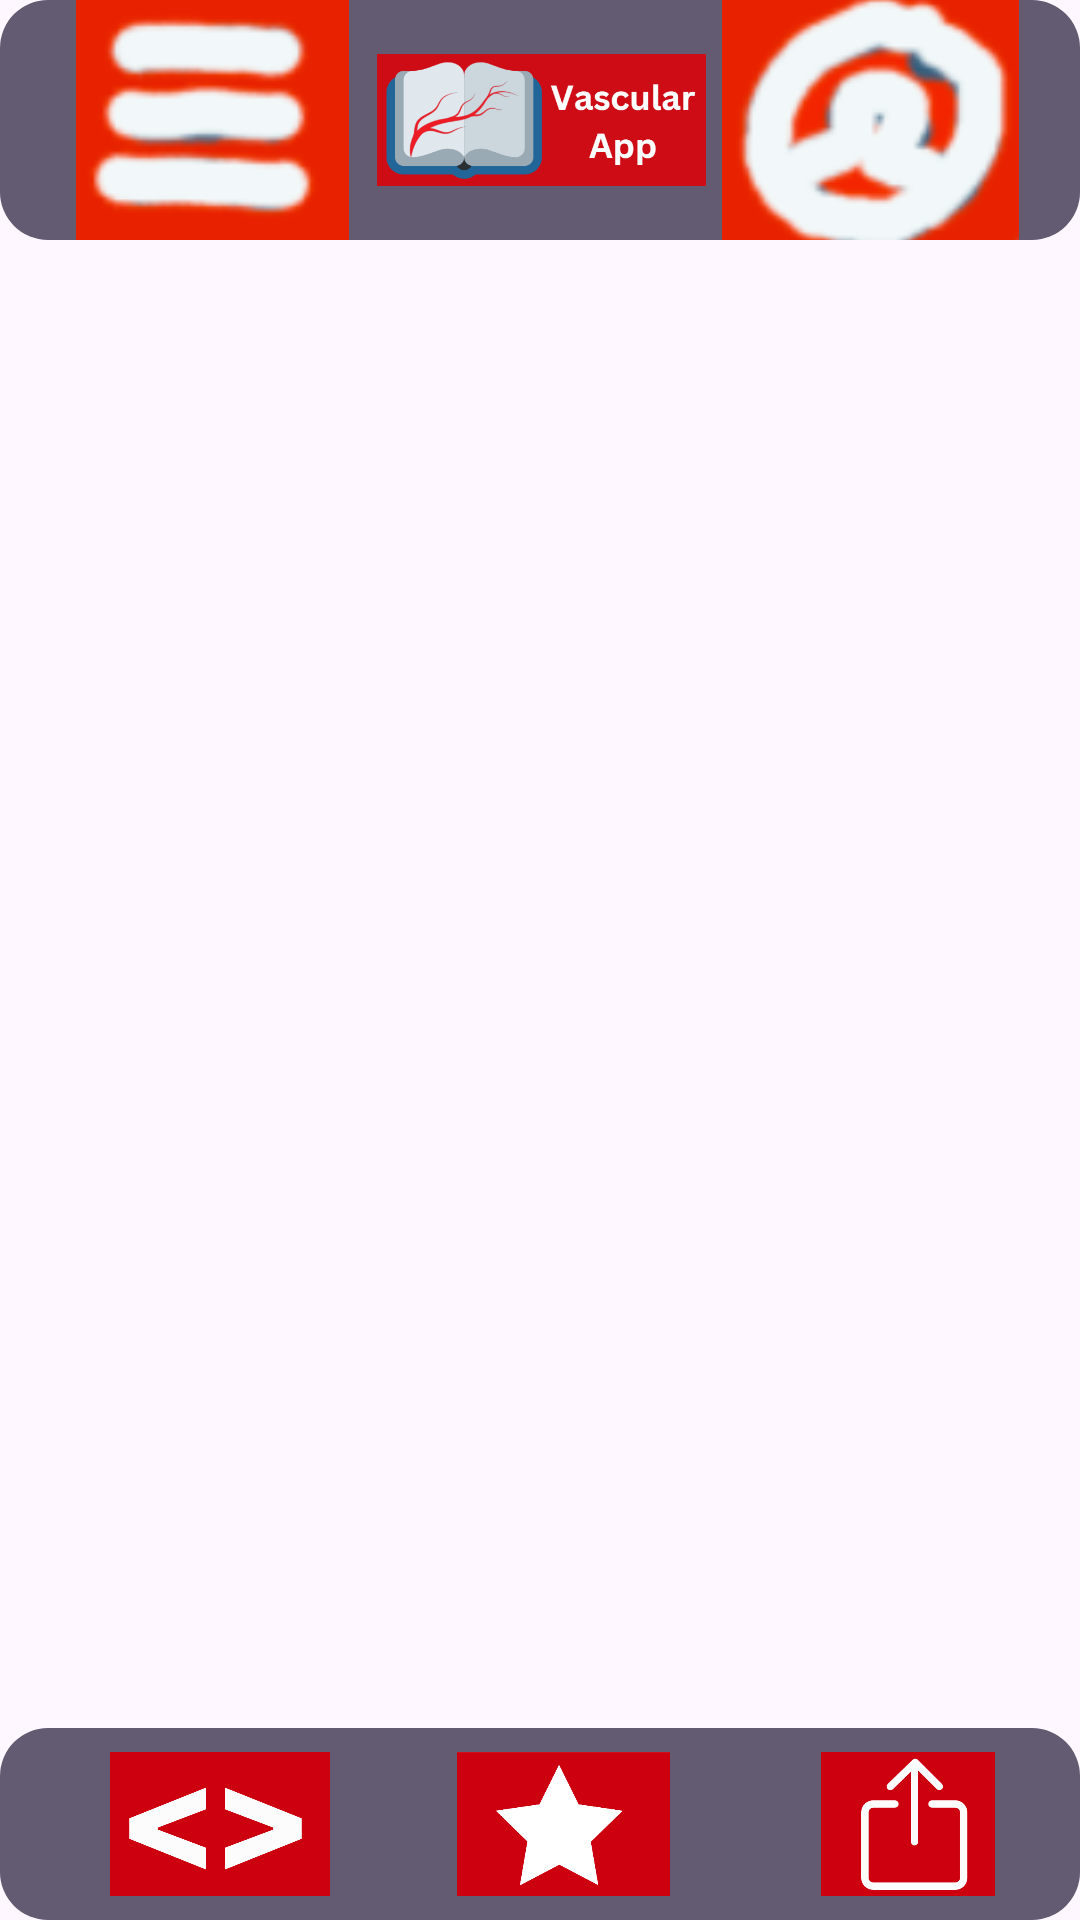

Named icons in this screenshot (1080w x 1920h) and their centers, point (x, y):
menu: point (212, 120)
